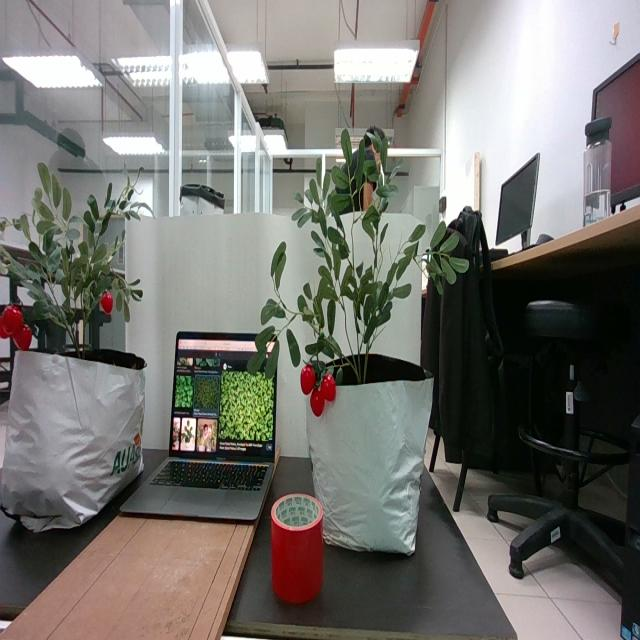Soilbag: (0, 350, 146, 536), (306, 354, 434, 557)
Tomato: (300, 362, 336, 420), (0, 305, 34, 351)
plant: (248, 126, 488, 419), (0, 163, 156, 357)
